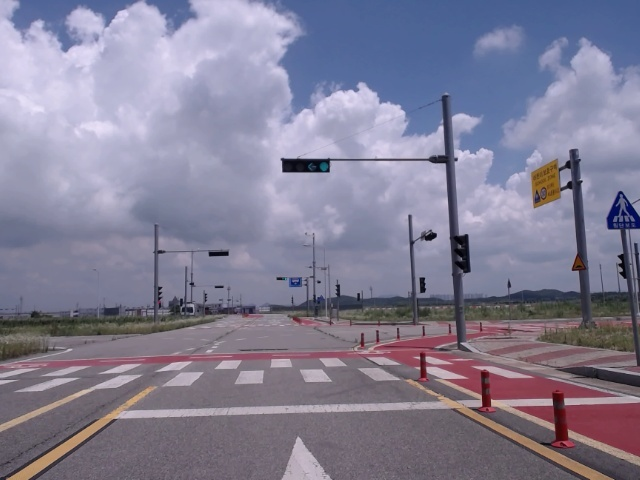all_green_4: (281, 157, 334, 173)
